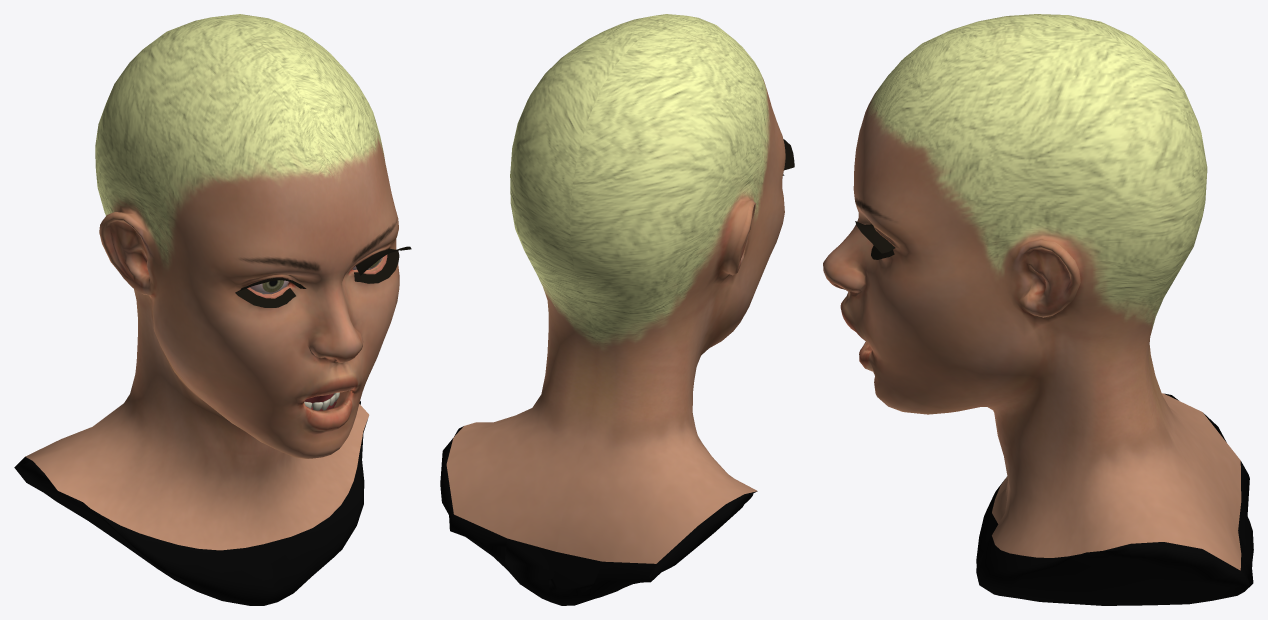
The model's file is Head_oo.obj.
3 views of the same model, side by side, from view 1: azimuth 30°, elevation 25°; view 2: azimuth 150°, elevation 25°; view 3: azimuth 270°, elevation 25° (orthographic). The views are drawn at different scales.
Parts seen in each view (by area): view 1: BodyParts; view 2: BodyParts; view 3: BodyParts.
Boxes of the visible parts, x1,y1,x2,y2 form: BodyParts: [14, 14, 411, 605]; BodyParts: [440, 14, 794, 605]; BodyParts: [823, 14, 1253, 605].
Bounding box in the file's own units: 21.19 × 35.94 × 24.44.
Materials: 2 (2 with a texture image).
